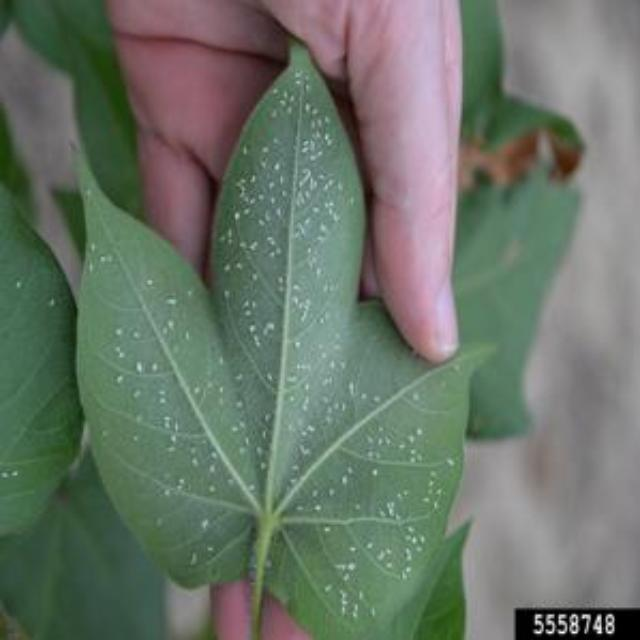Silverleaf whitefly: (41, 44, 515, 632)
